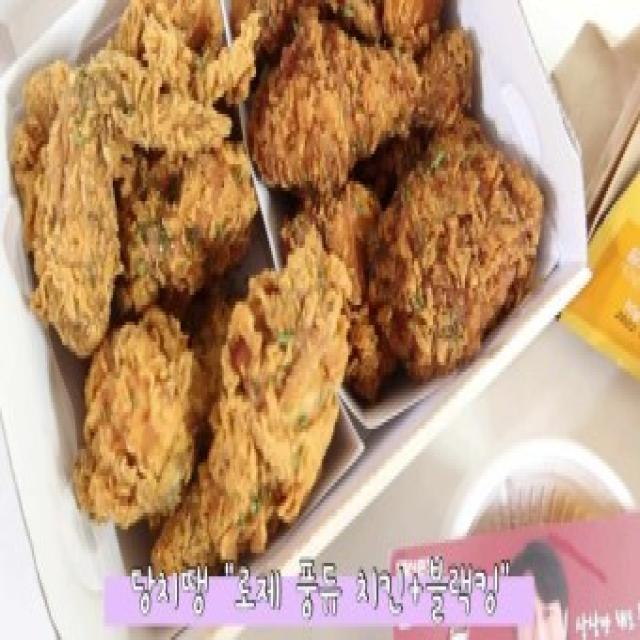Frango: (16, 20, 339, 556)
